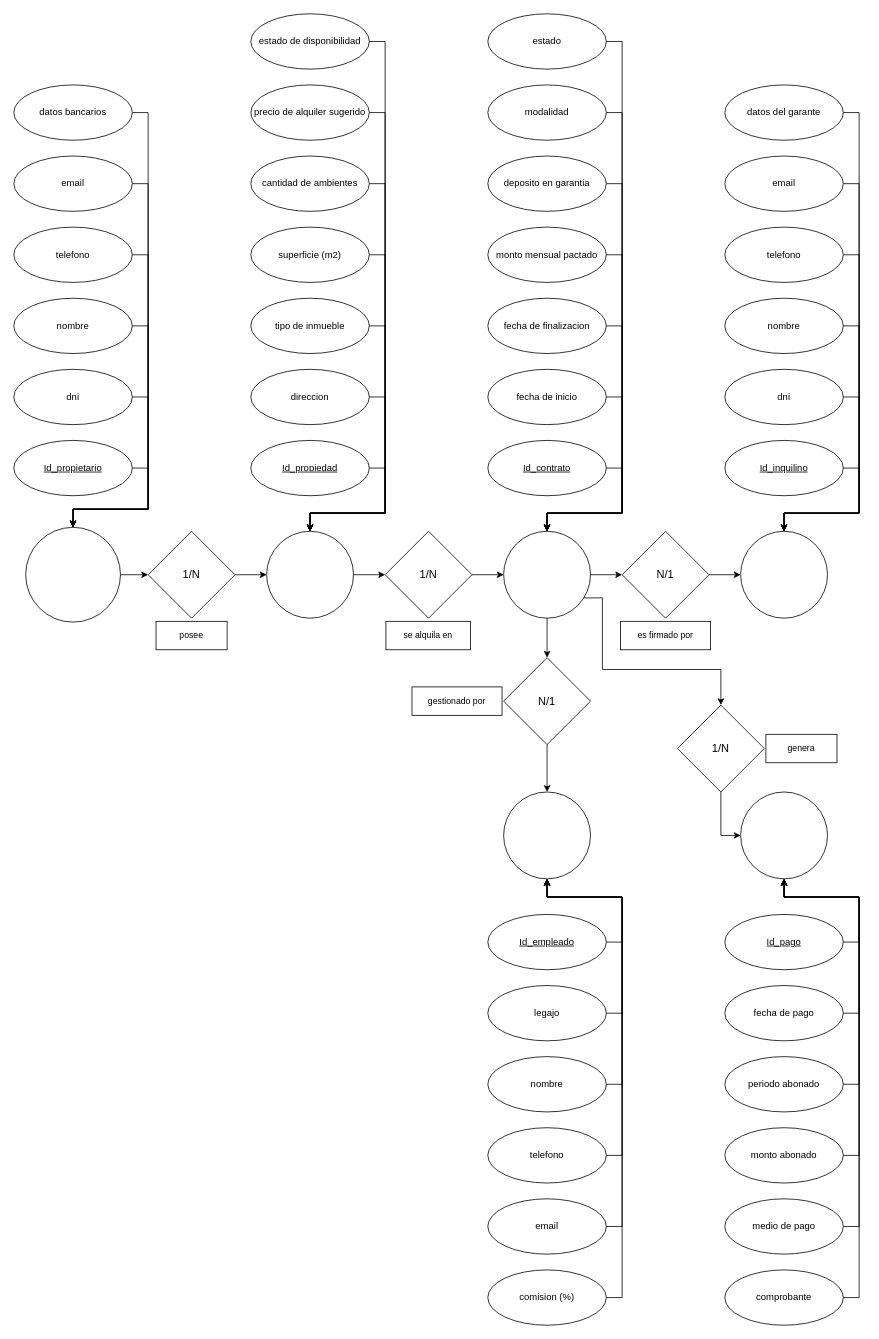
The diagram is 879 pixels wide and 1339 high, and some of its shapes have lost their labels. Here are the shapes that lost their labels. From the top down, the box of each, then its label:
(25, 527, 120, 622): PROPIETARIO
(266, 530, 354, 618): PROPIEDAD
(503, 530, 591, 618): CONTRATO
(740, 530, 828, 618): INQUILINO
(503, 791, 591, 879): EMPLEADO
(740, 791, 828, 879): PAGO
